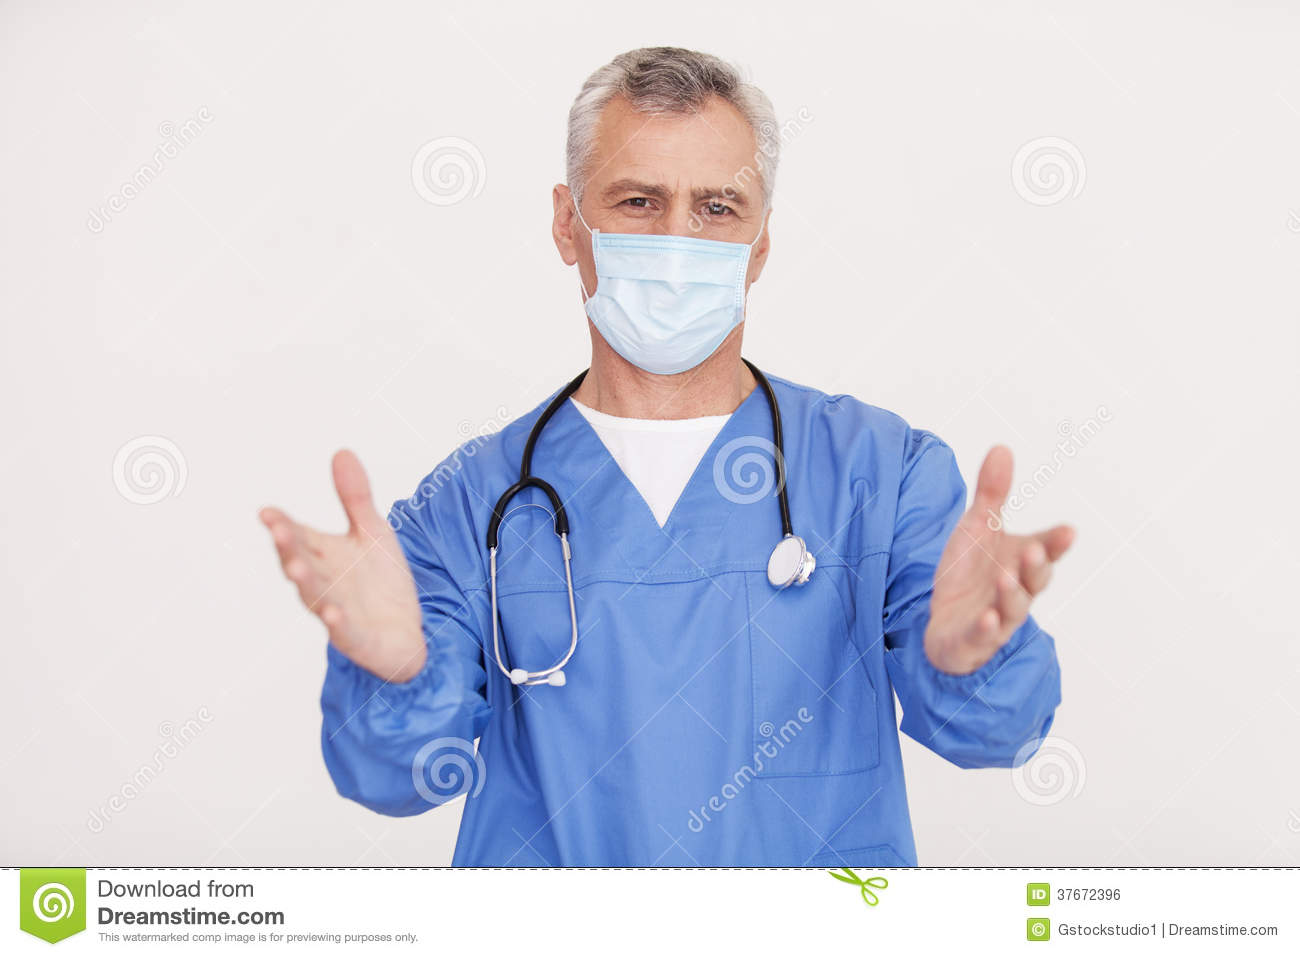mask: (582, 226, 754, 398)
